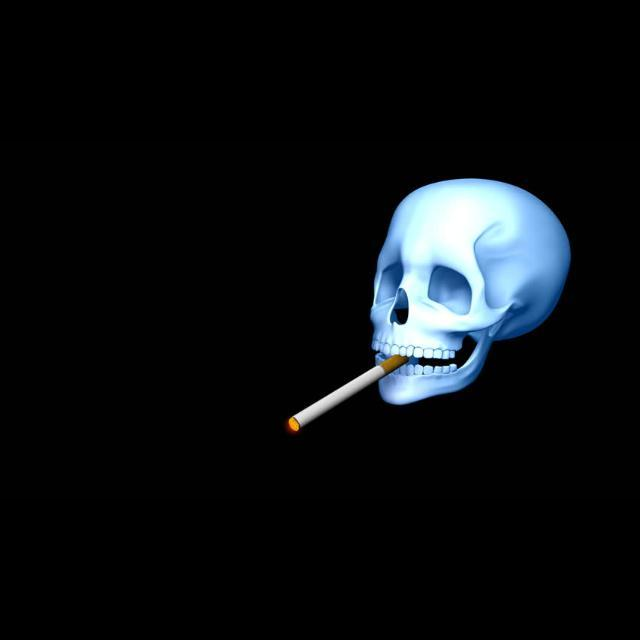rokok: (278, 344, 402, 430)
